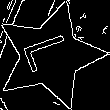L_E: (20, 32, 80, 79)
